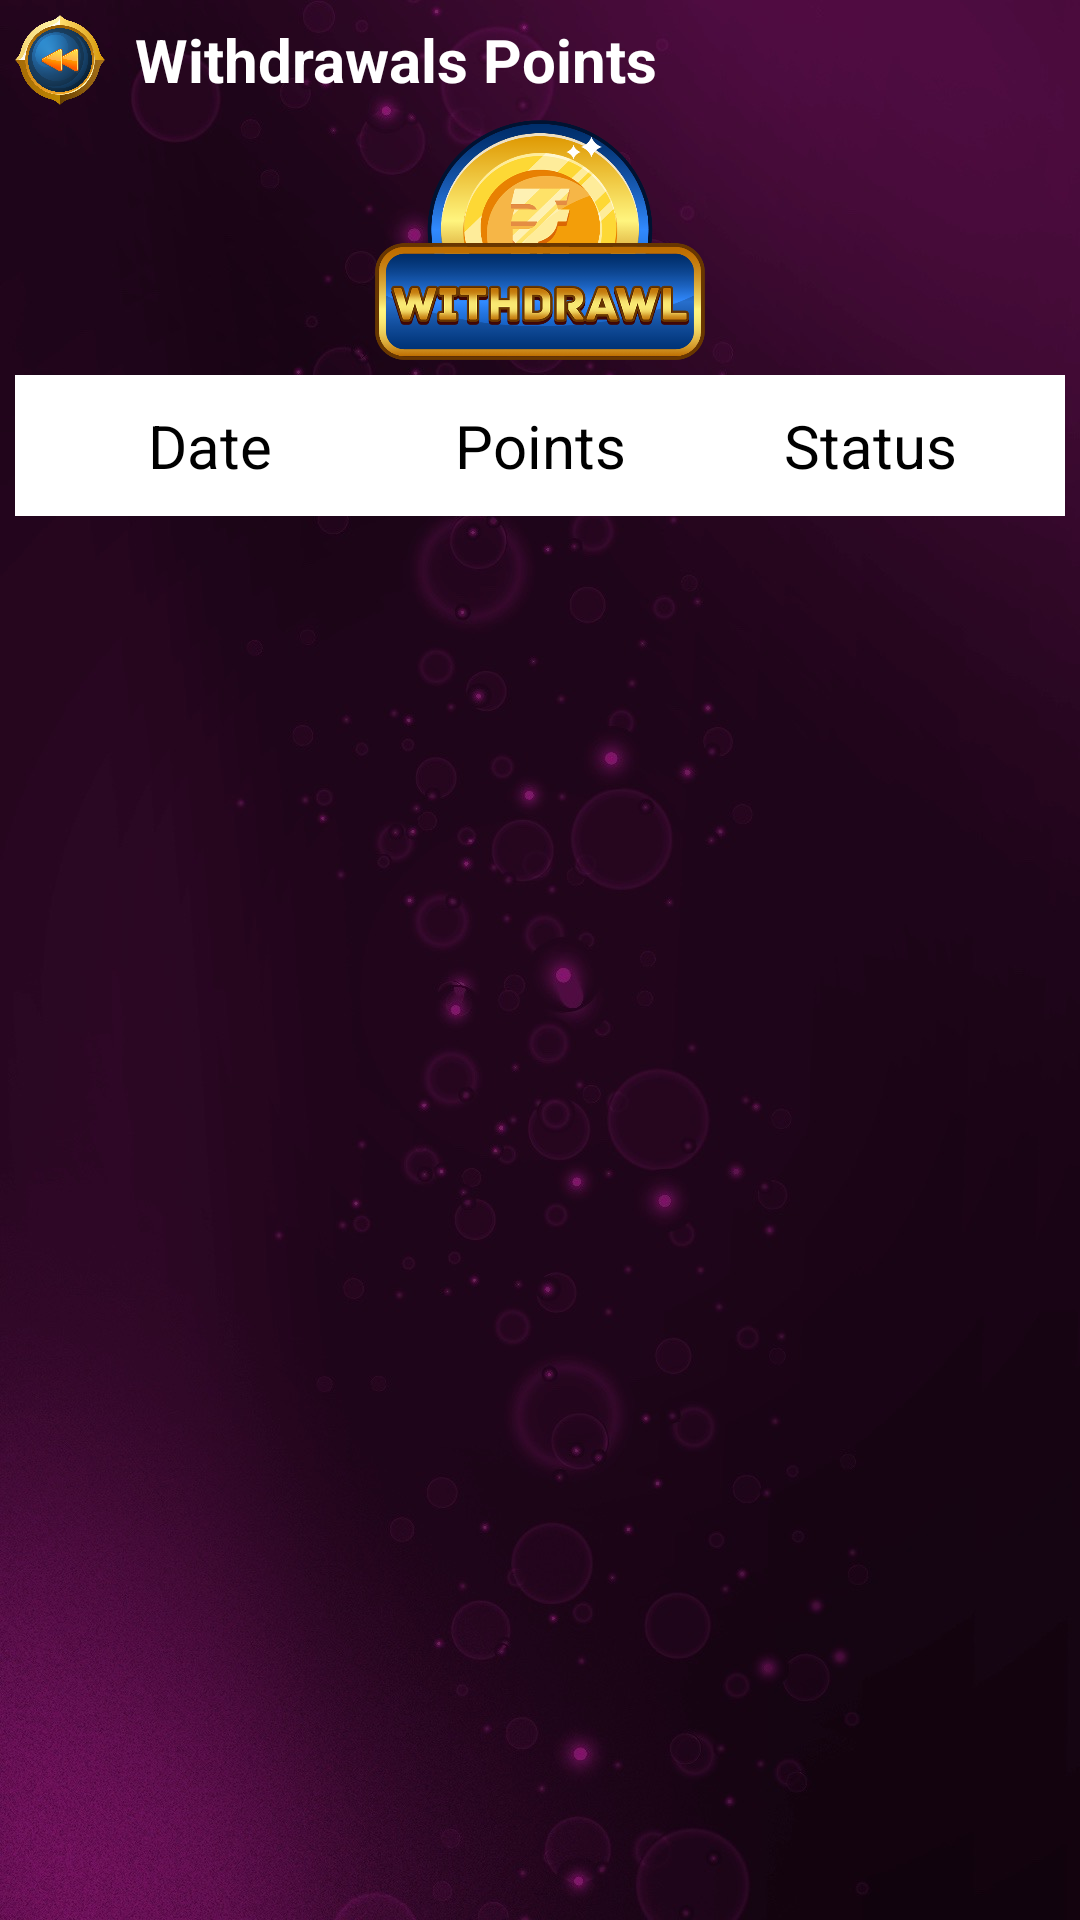

Icon click points for this 1080px x 1920px phone screenshot, format (x=x, y=y):
changebackbtn: (x=60, y=60)
